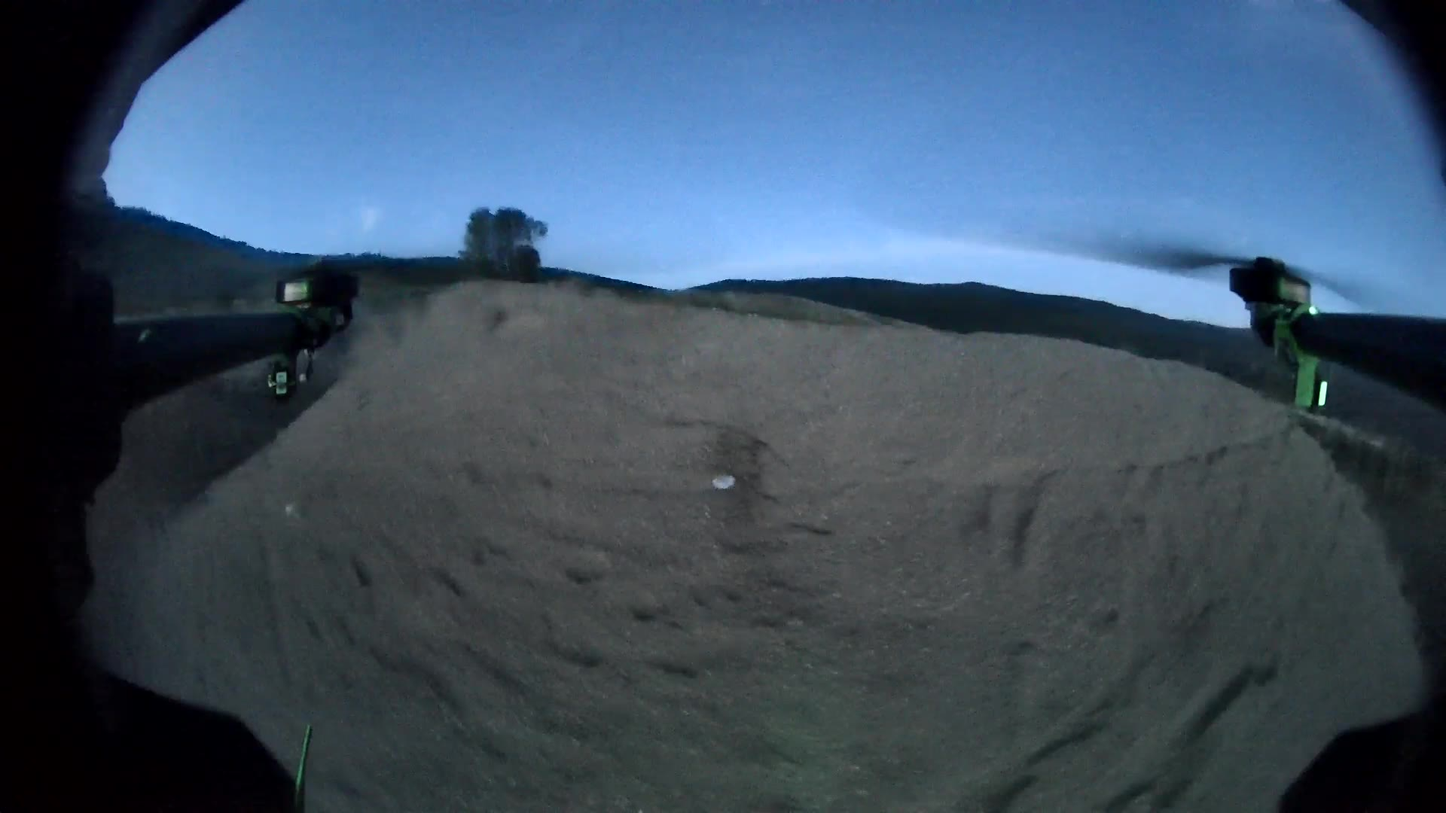Target: (710, 474, 737, 490)
